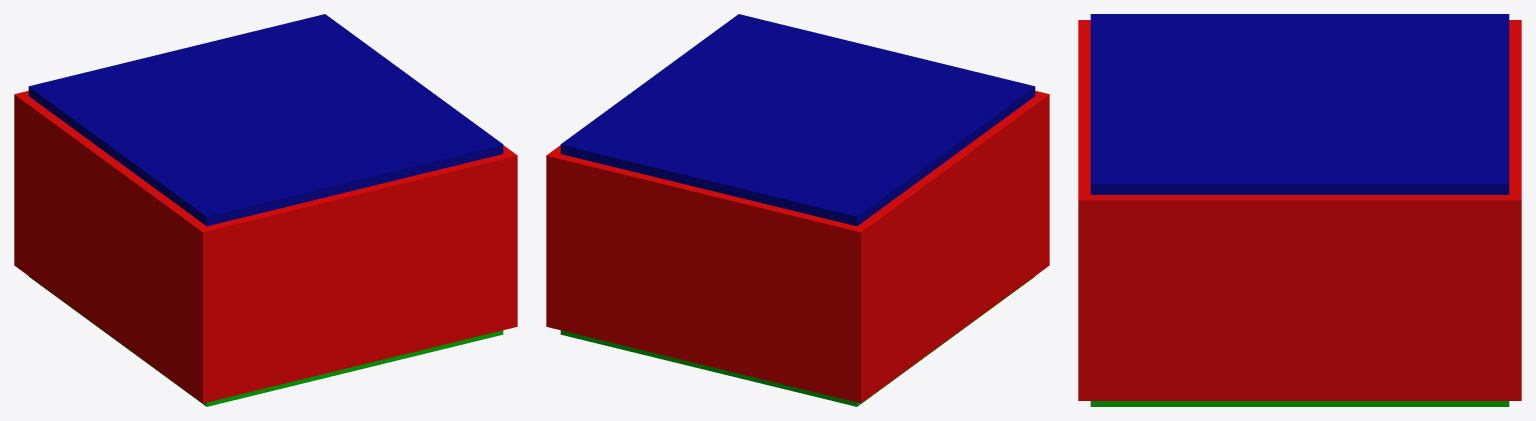
The model's file is room_stage.glb.
3 renders of one model, left to right at view 1: azimuth 30°, elevation 25°; view 2: azimuth 150°, elevation 25°; view 3: azimuth 270°, elevation 25°, orthographic. The views are drawn at different scales.
Visible parts, largest first — view 1: wall, ceiling, floor; view 2: wall, ceiling, floor; view 3: wall, ceiling, floor.
Part boxes in pixels (x1,y1,x2,y2): wall: (14,91,517,403); ceiling: (28,14,503,226); floor: (28,276,503,406); wall: (546,91,1049,403); ceiling: (560,14,1035,226); floor: (560,276,1035,406); wall: (1078,20,1521,400); ceiling: (1090,14,1509,194); floor: (1090,401,1509,406).
Bounding box in the file's own units: 5.2 × 3 × 5.4.
